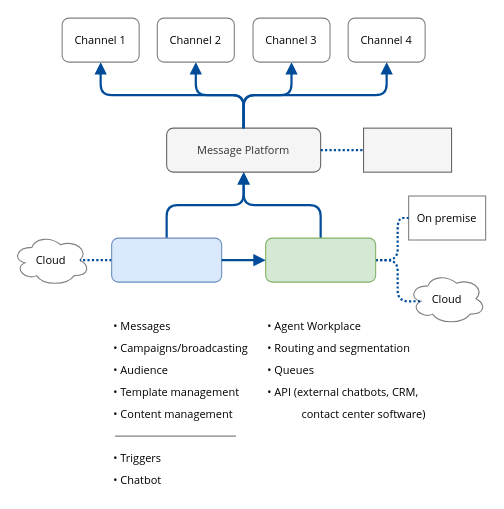
Image size: 504x509. Some labels were removed from this diagram. Here are the shapes that lost their labels. From the top down, the centre of each, then its label:
(x=407, y=149): Platform API
(x=166, y=259): dena Platform
(x=320, y=259): dena Chat Center
